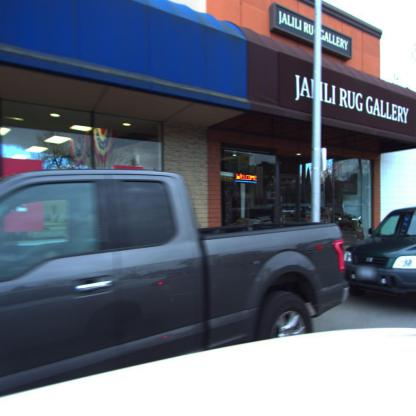car: (344, 202, 416, 311)
truck: (0, 165, 366, 409)
